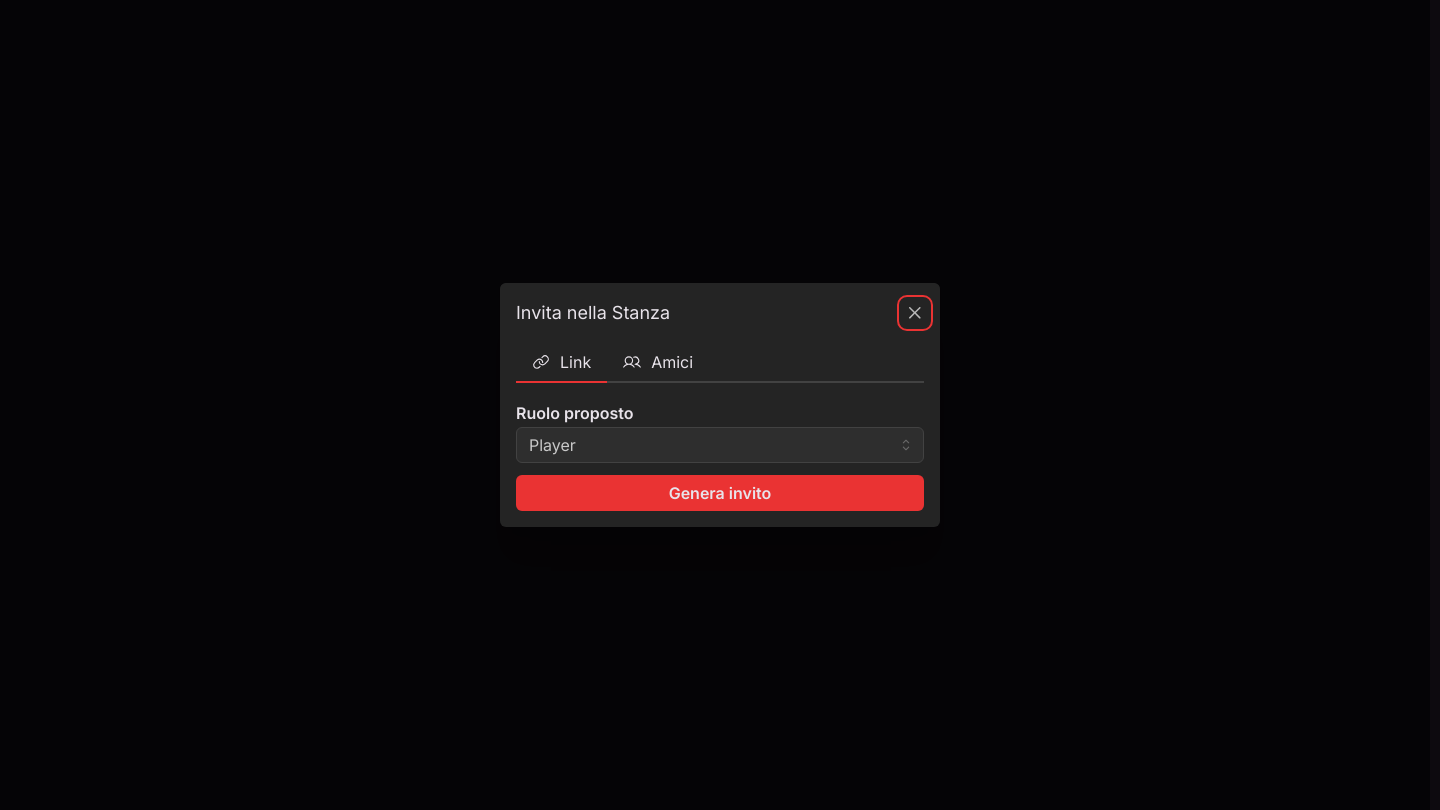
it: InviteModal › shows a checkmark once the link is copied
Click the button "Genera invito" at (720, 493), box [516, 475, 924, 511]
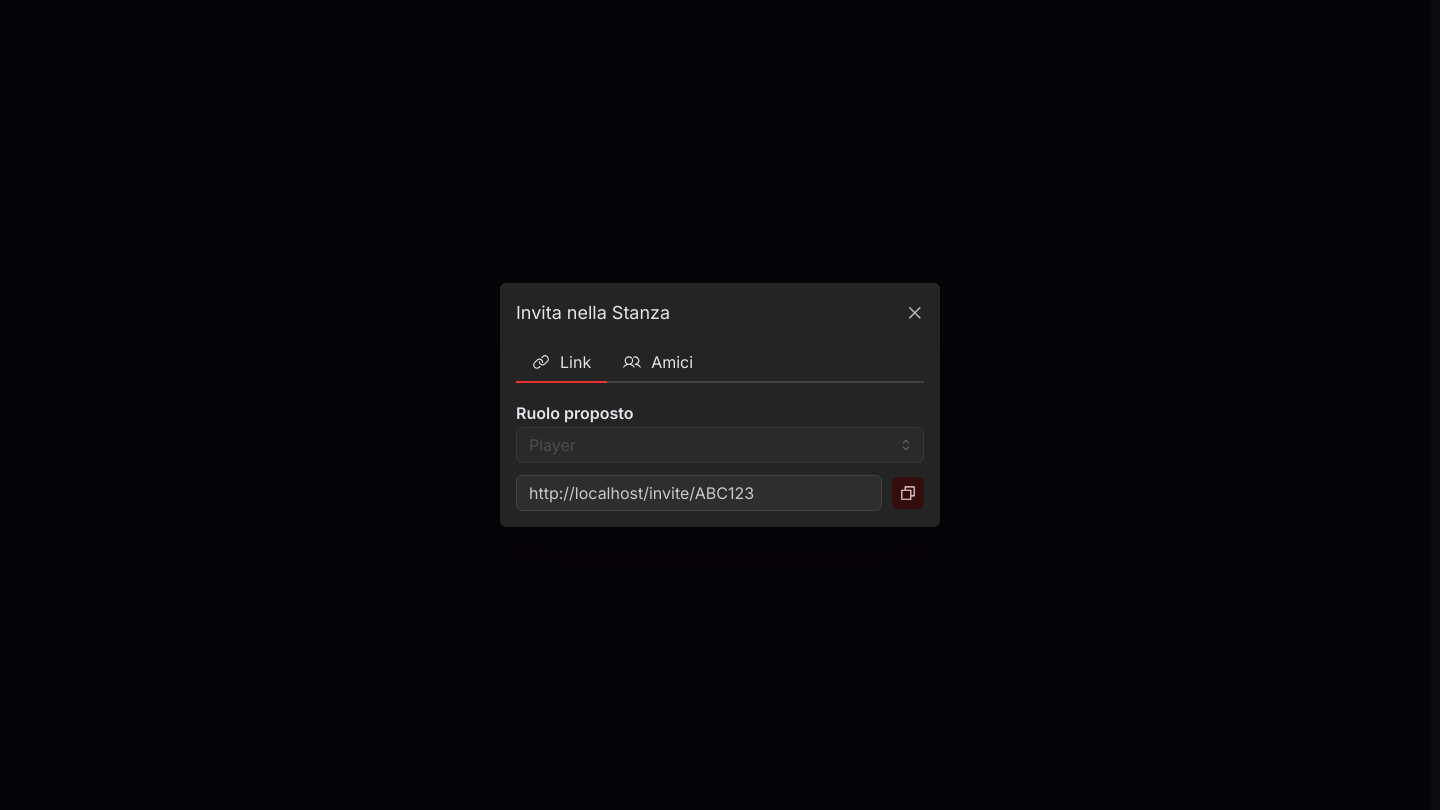
Result: the field showing "ABC123" is shown at [516, 475, 882, 511]
Click the button named "Copia" at (908, 493), box [892, 477, 924, 509]
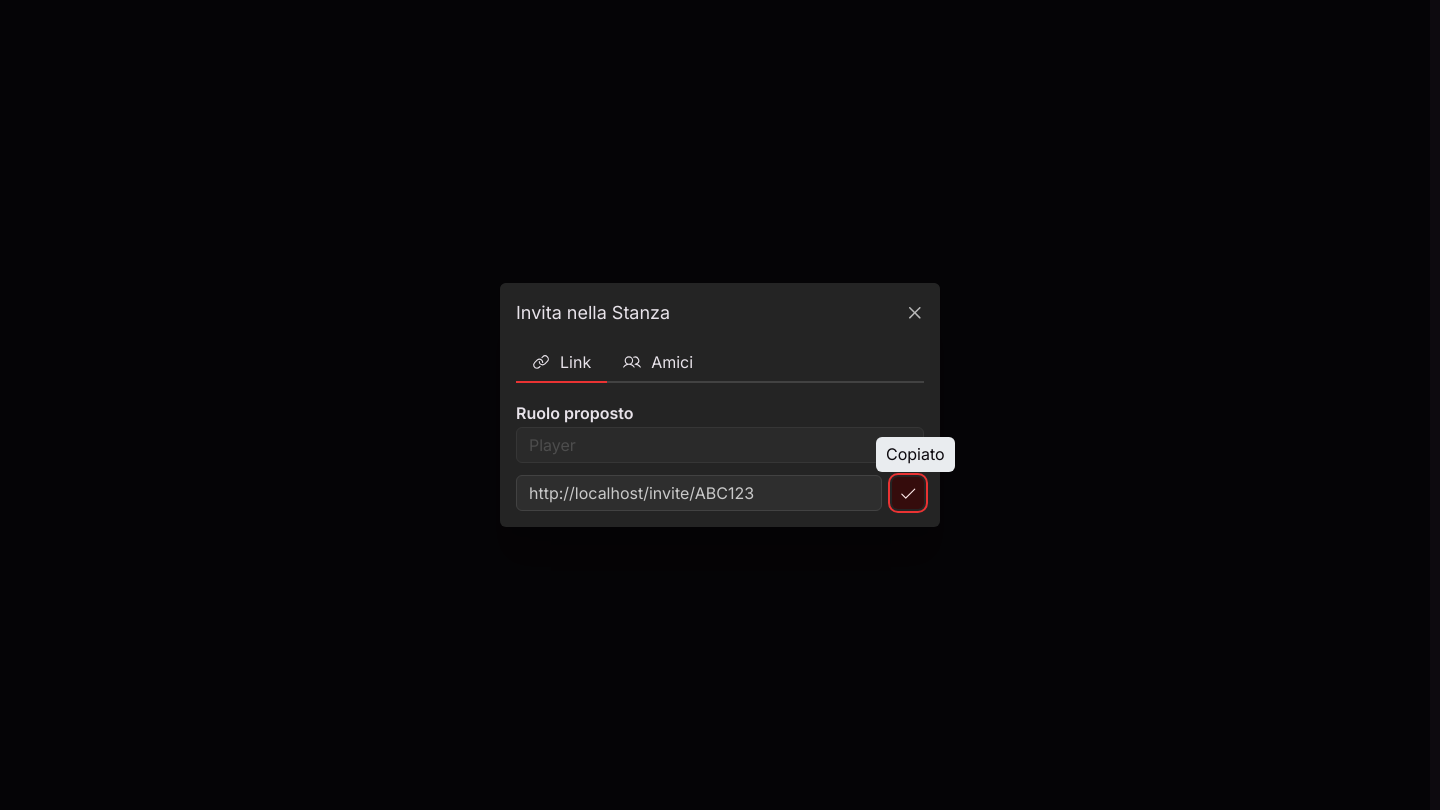
Result: the button named "Copiato" is shown at [892, 477, 924, 509]
